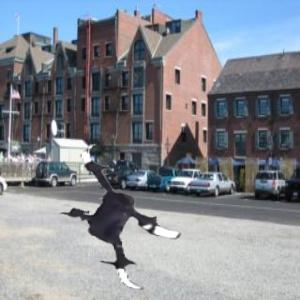drone: (49, 140, 205, 296)
